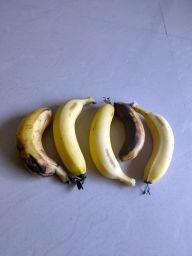banana: (14, 106, 74, 184), (89, 95, 138, 189), (52, 94, 98, 191), (130, 101, 176, 195), (112, 102, 147, 164)
